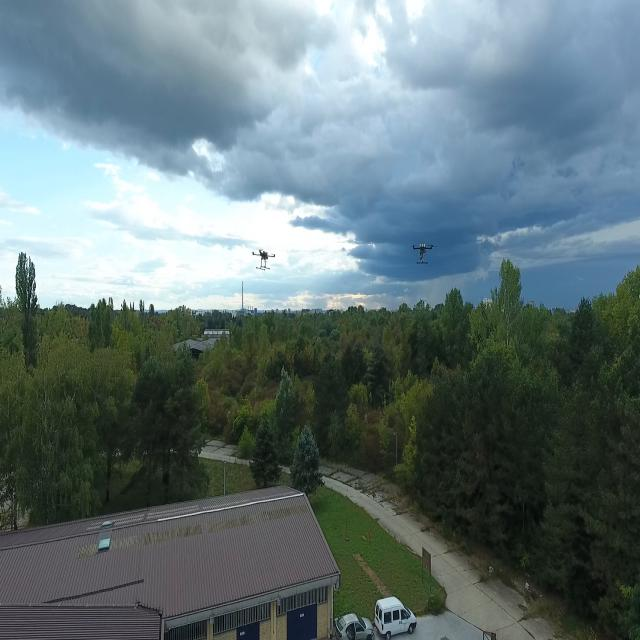UAV: (243, 243, 285, 274), (407, 236, 439, 266)
